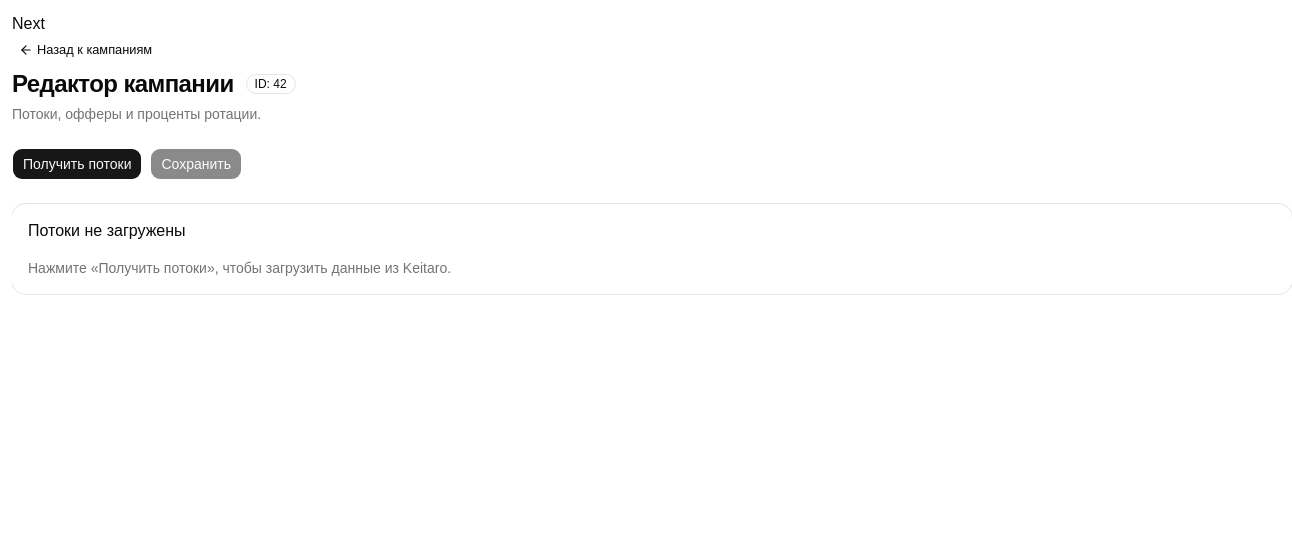
Scenario: CampaignEditPage › clears an earlier mutation error when another operation starts and shows its own failure
Click the button "Получить потоки" at (77, 164), box [12, 148, 142, 180]
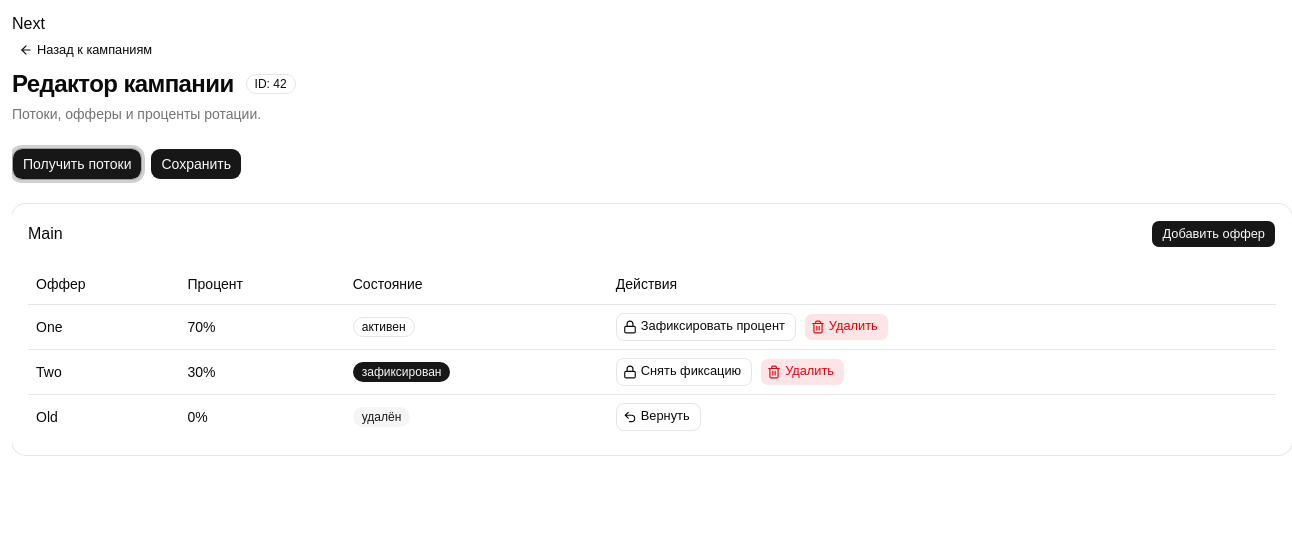
Check: the text "Main" is shown, box [28, 223, 63, 245]
Click the button "Удалить" in the row of "One" at (846, 326), box [804, 312, 889, 340]
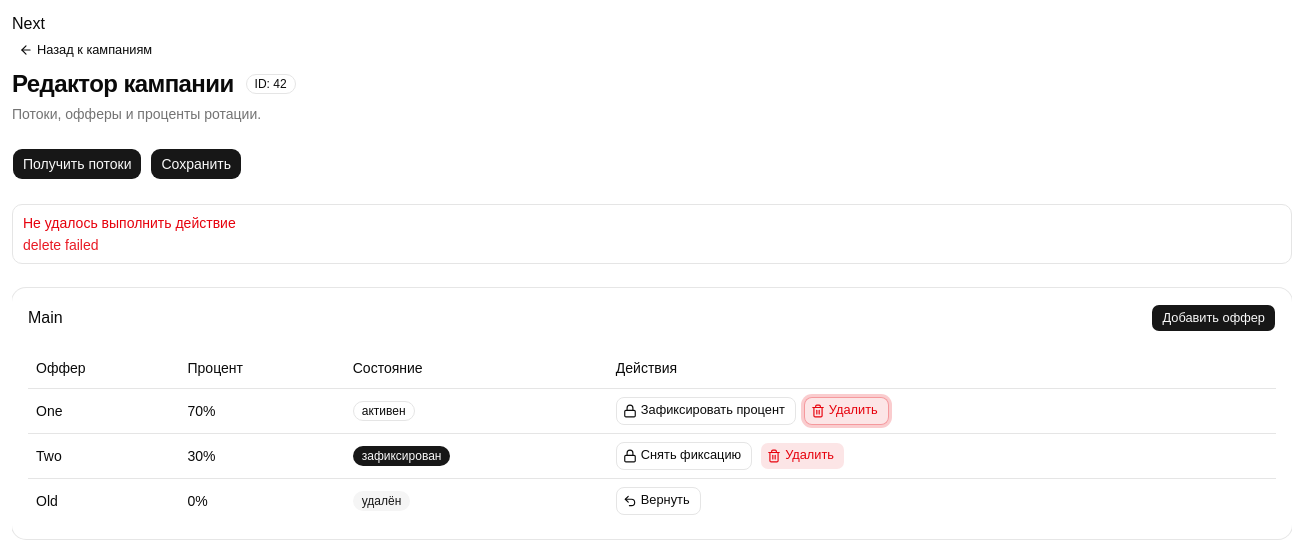
Check: the text "delete failed" is shown, box [23, 237, 98, 253]
Click the button "Сохранить" at (196, 164), box [150, 148, 242, 180]
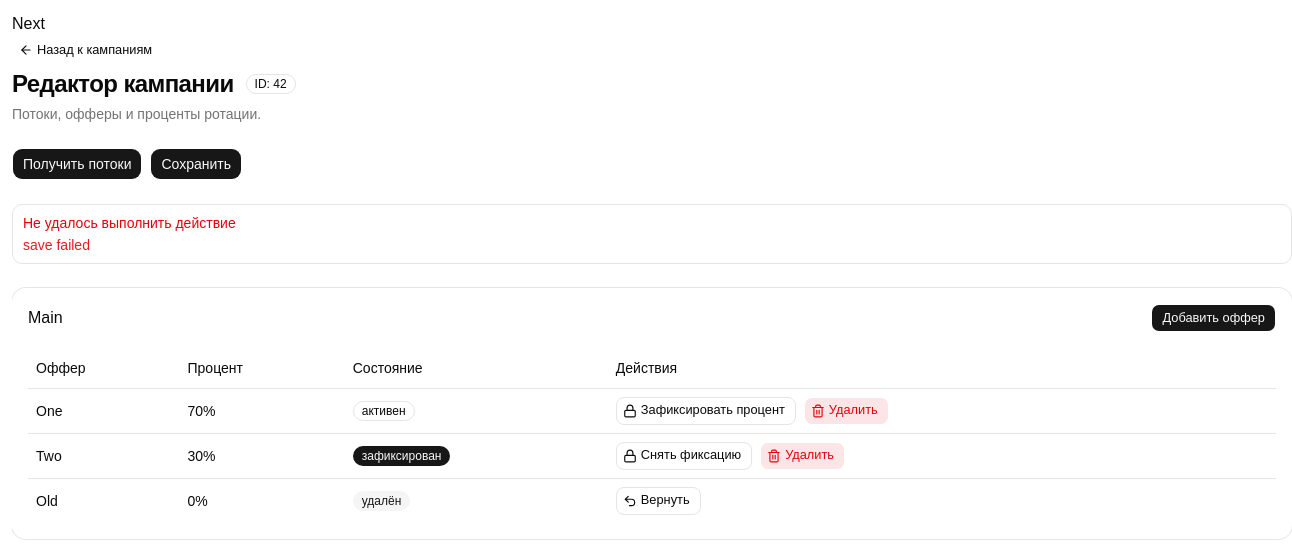
Check: the text "70%" is shown, box [180, 388, 345, 433]
Check: the text "delete failed" is gone
Check: the text "save failed" is shown, box [23, 237, 90, 253]
